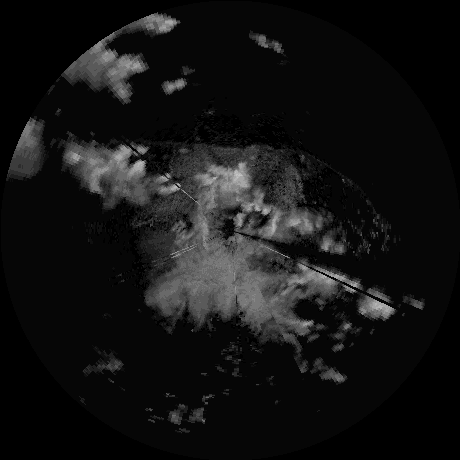frontgust: (293, 153, 389, 240)
